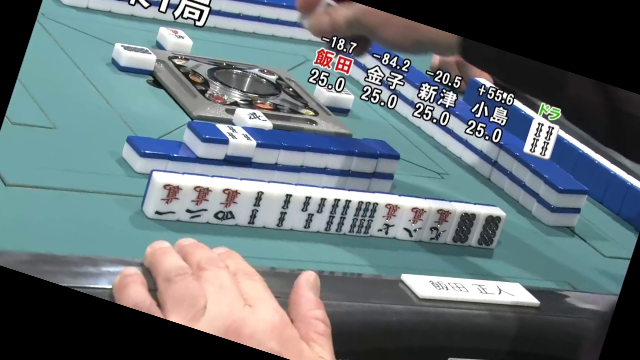Tehai: (136, 164, 511, 254)
